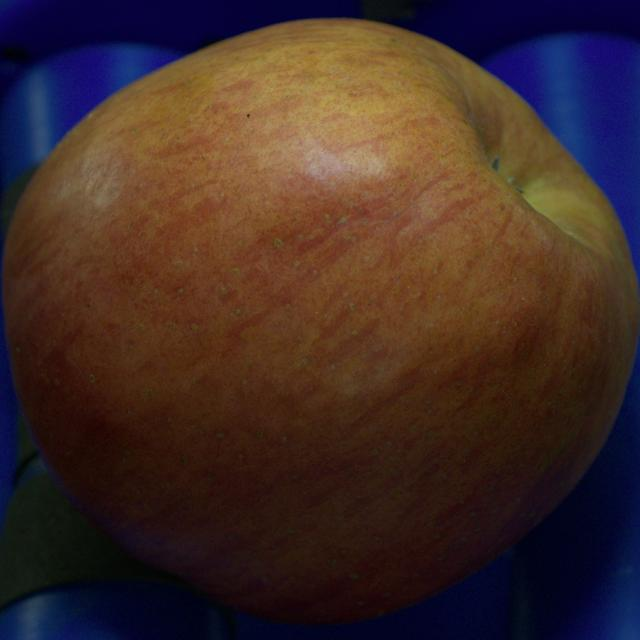apple: (2, 19, 639, 623)
